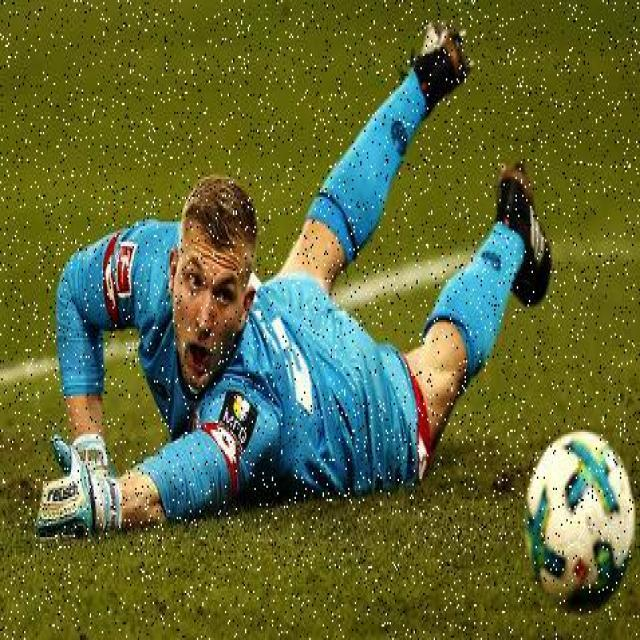fall: (36, 31, 532, 544)
